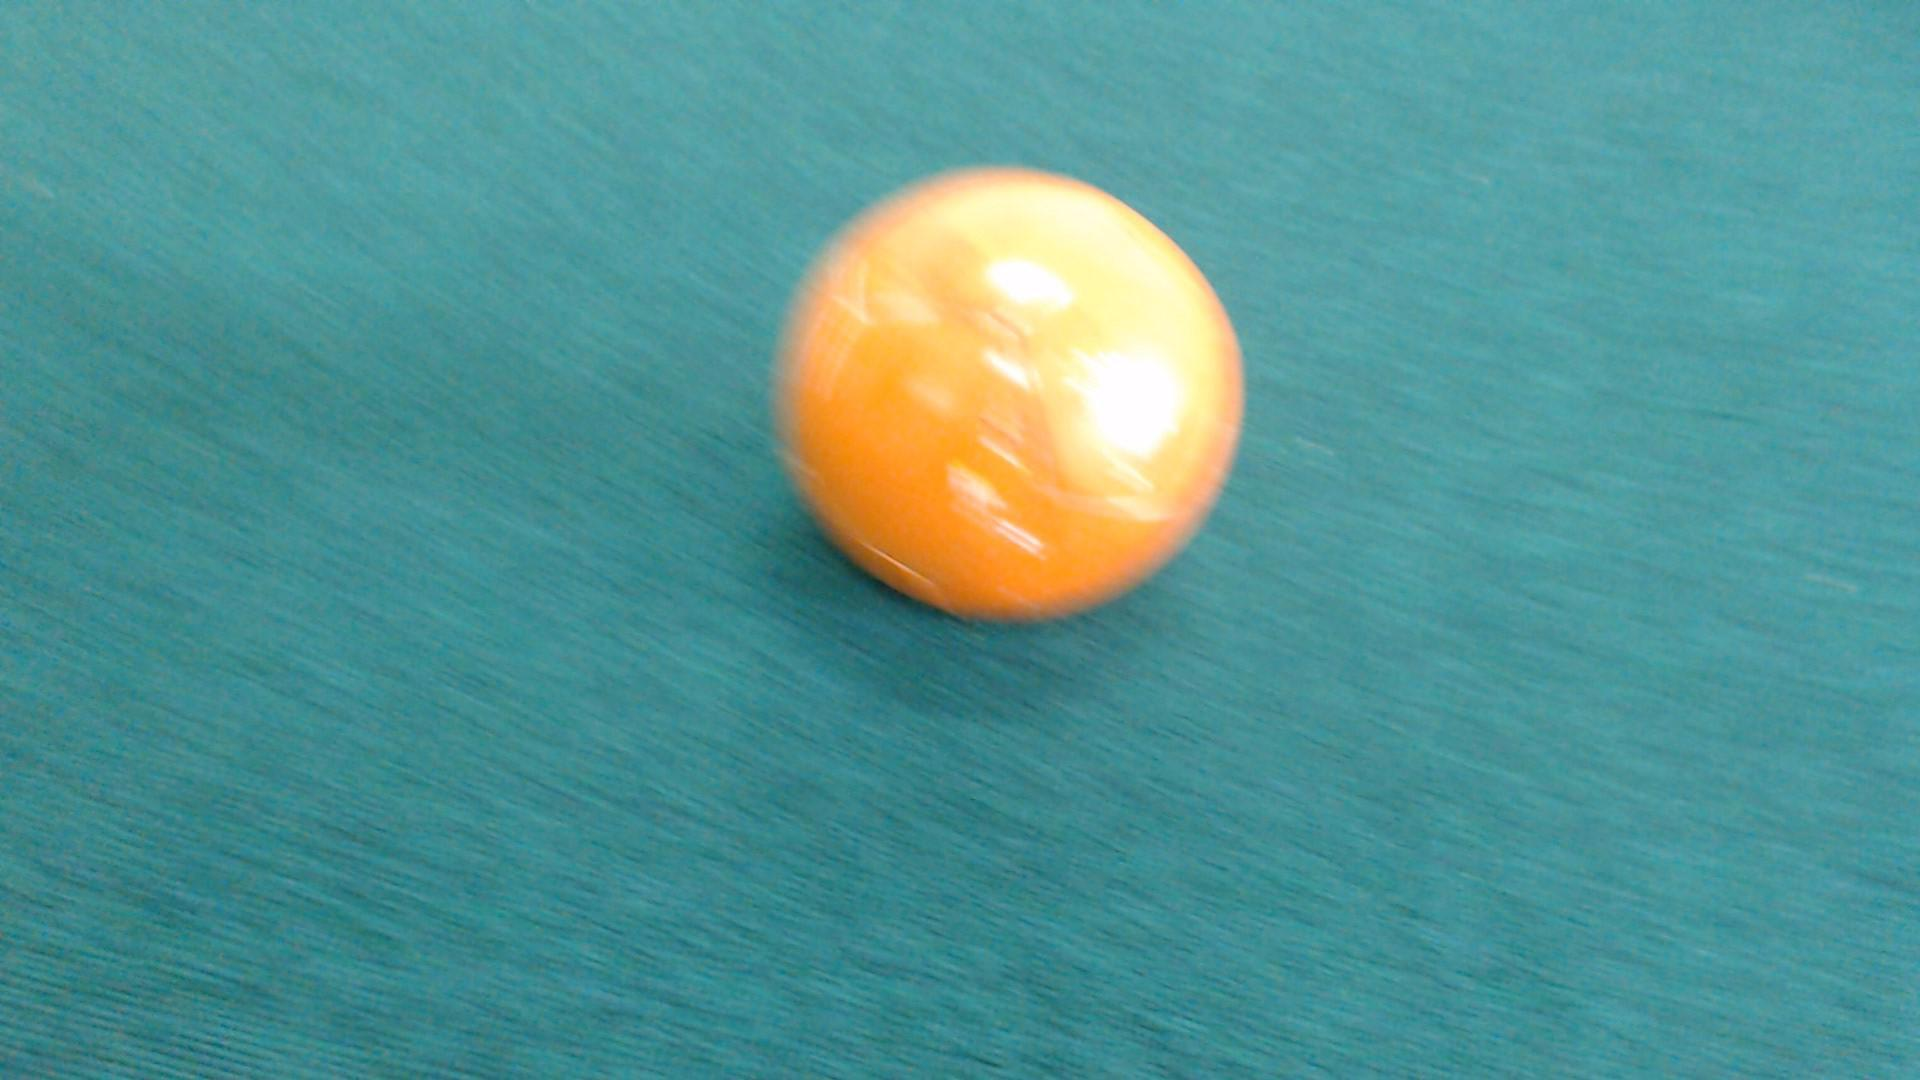bola: (741, 166, 1254, 653)
